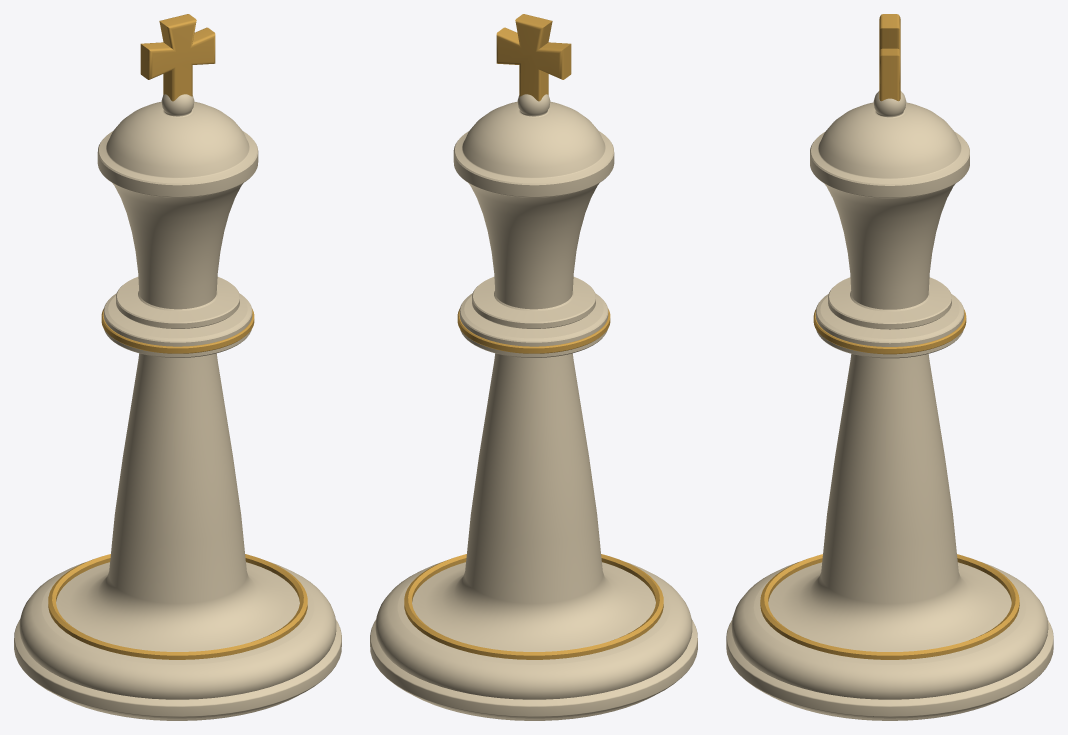
Rendered from king.obj.
3 renders of one model, left to right at view 1: azimuth 30°, elevation 25°; view 2: azimuth 150°, elevation 25°; view 3: azimuth 270°, elevation 25°, orthographic.
Parts seen in each view (by area): view 1: king; view 2: king; view 3: king.
Part boxes in pixels (x1,y1,x2,y2): king: [14, 14, 341, 720]; king: [370, 14, 697, 720]; king: [726, 14, 1053, 720].
Bounding box in the file's own units: 0.56 × 1.2 × 0.56.
